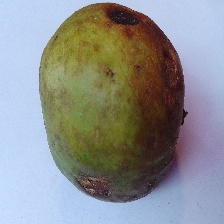guava: (33, 0, 169, 200)
